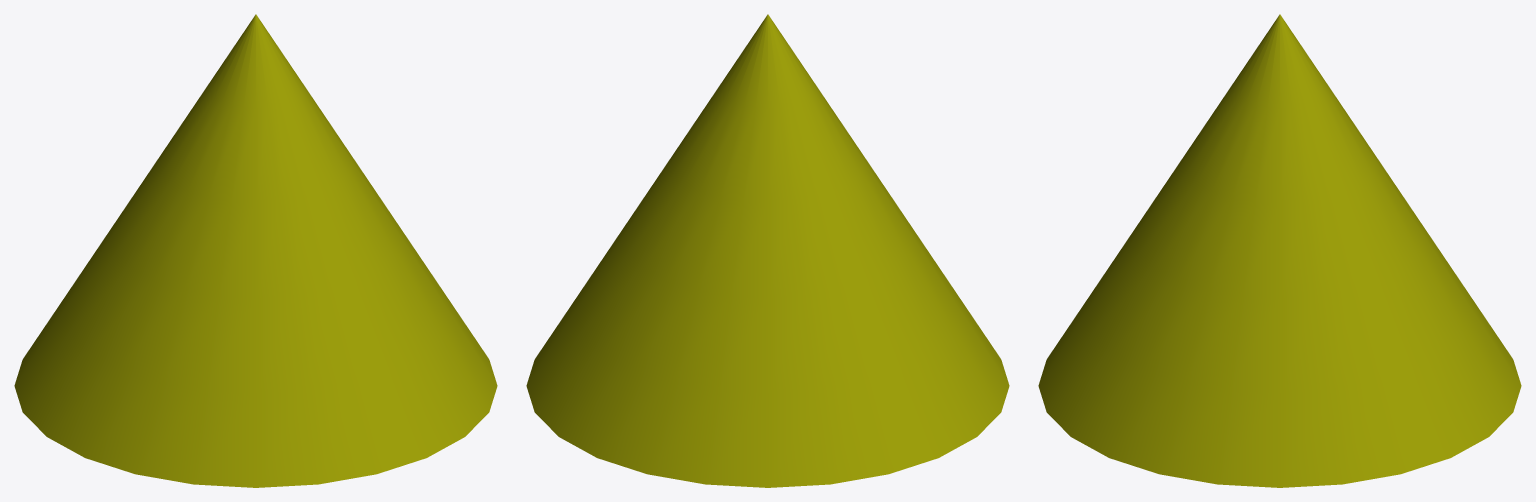
File: bullet.FBX
3 renders of one model, left to right at view 1: azimuth 30°, elevation 25°; view 2: azimuth 150°, elevation 25°; view 3: azimuth 270°, elevation 25°, orthographic.
Visible parts, largest first — view 1: bullet; view 2: bullet; view 3: bullet.
Boxes of the visible parts, left/top/right/bottom form: bullet: left=14, top=14, right=497, bottom=487; bullet: left=526, top=14, right=1009, bottom=487; bullet: left=1038, top=14, right=1521, bottom=487.
Size of the model in its own units: 0.9892 by 0.8401 by 0.9892.
